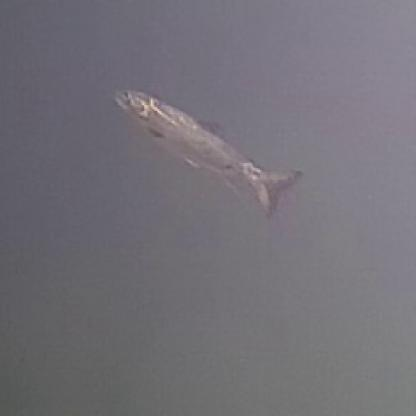salmon: (108, 83, 305, 217)
